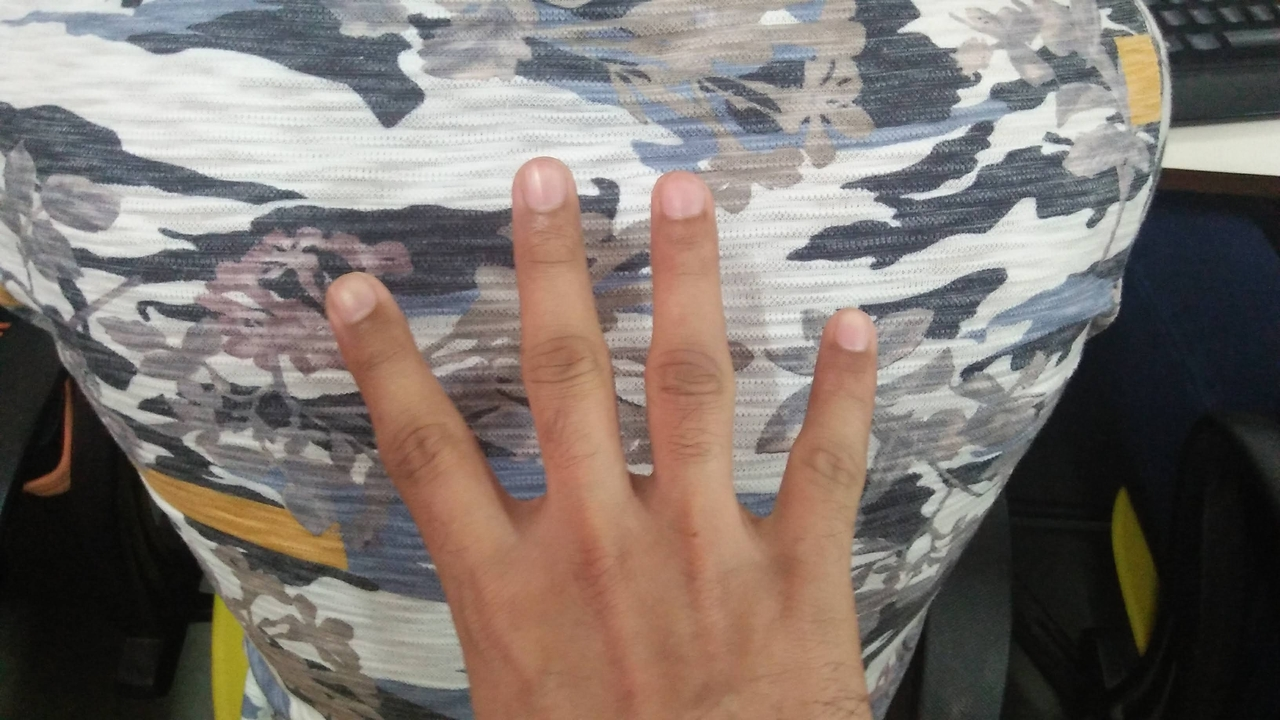fingertip: (310, 264, 394, 342), (816, 300, 884, 372), (648, 162, 718, 230), (508, 154, 576, 216)
